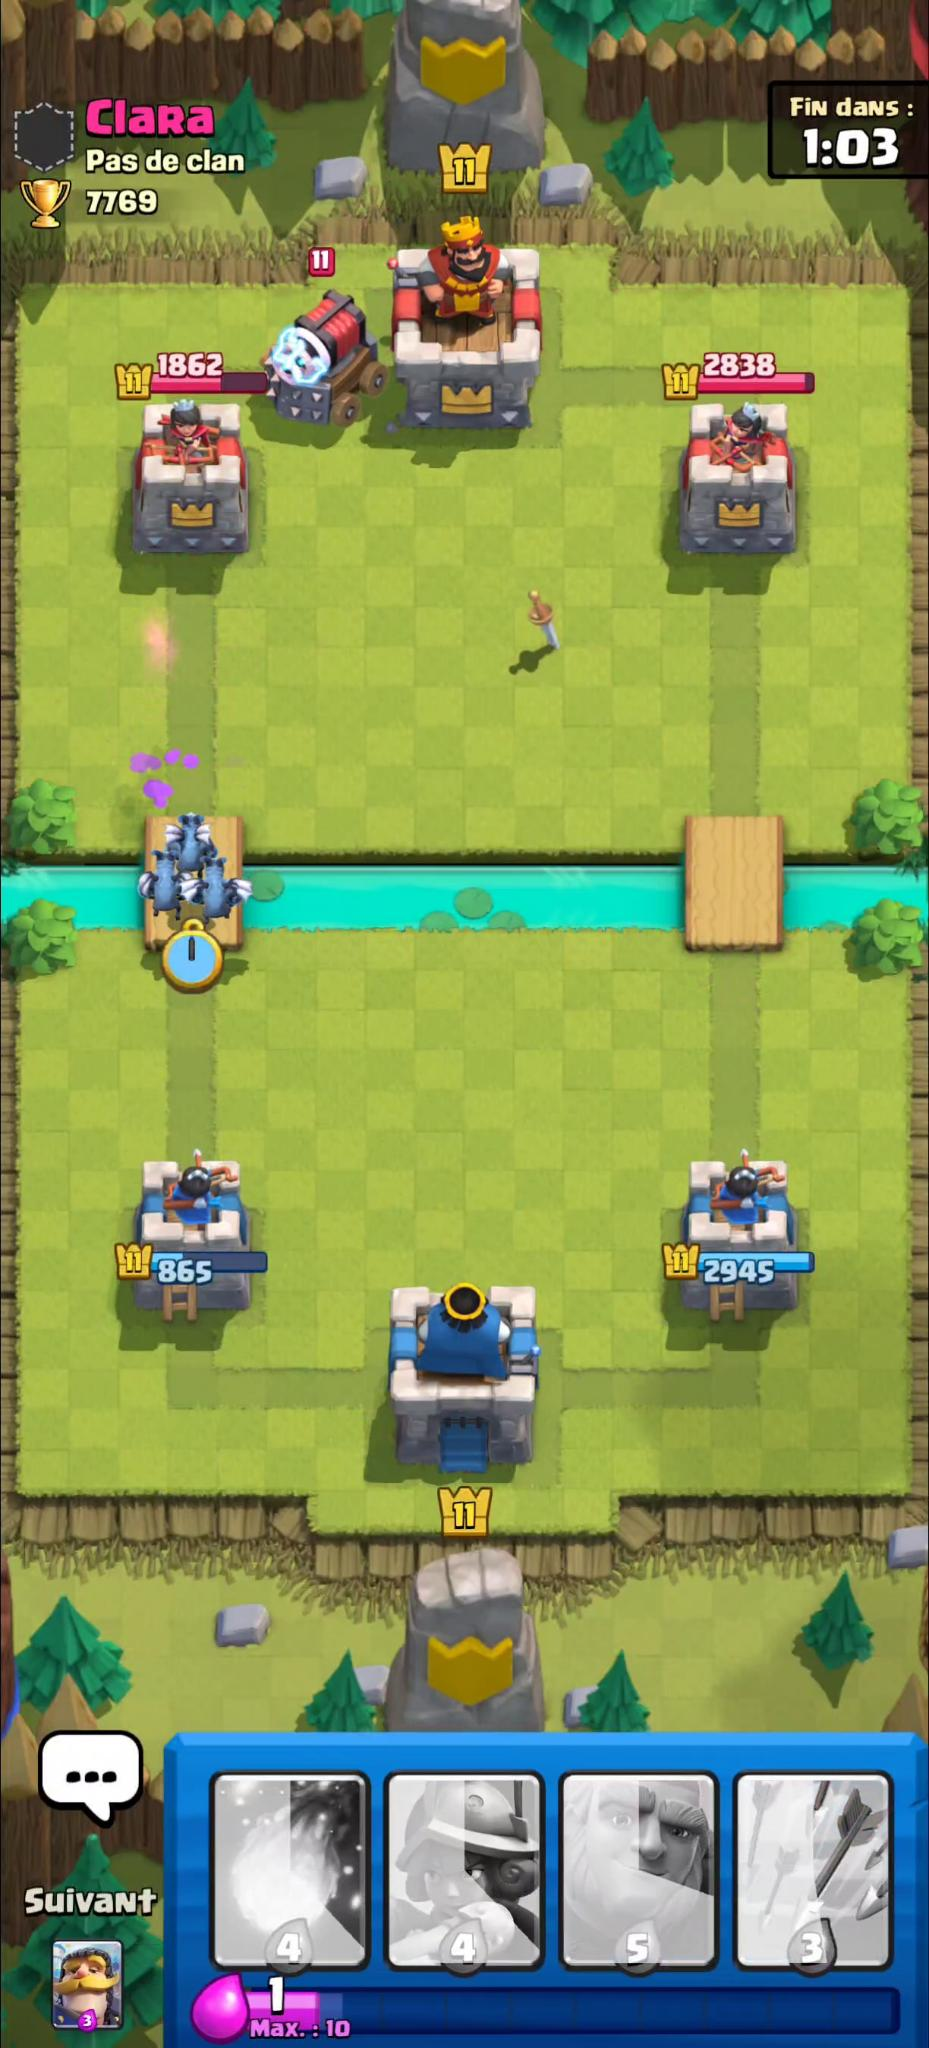gargouille: (186, 856, 253, 923), (139, 849, 195, 920), (165, 810, 217, 870)
zappy: (259, 286, 392, 434)
